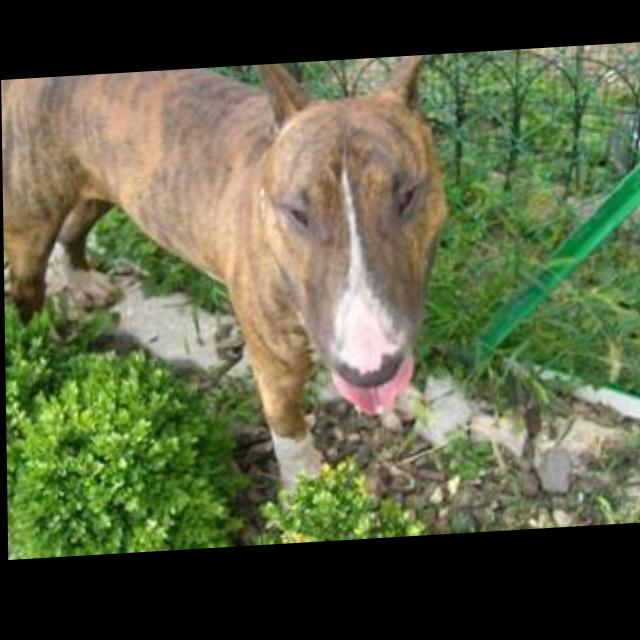bullterrier: (2, 61, 453, 519)
